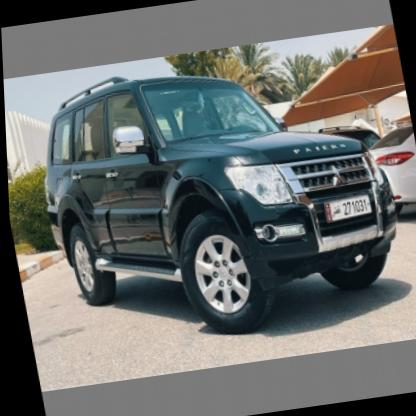np: (319, 189, 375, 226)
